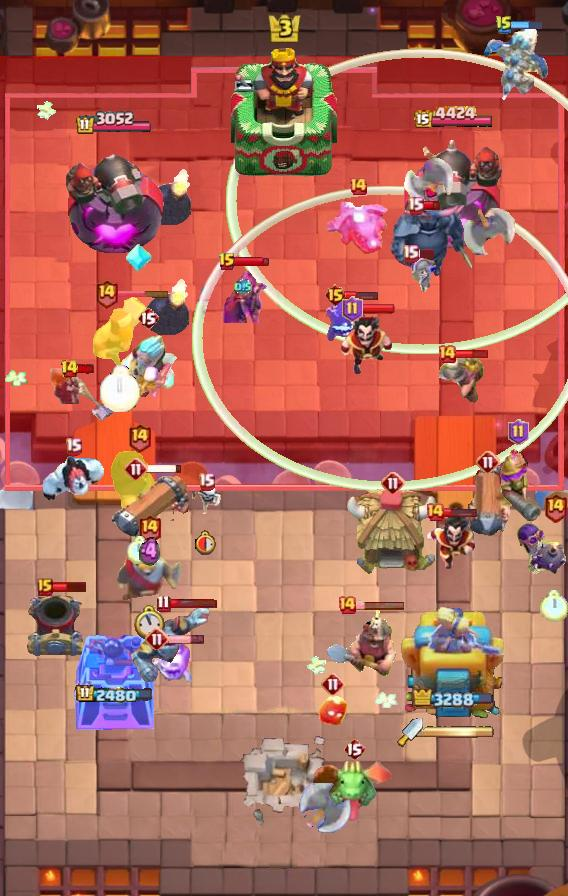archer-evolution: (217, 265, 269, 323)
axe: (291, 783, 351, 843), (462, 191, 516, 255), (400, 158, 454, 218)
bar: (354, 600, 406, 611), (168, 598, 218, 609), (116, 289, 170, 298), (51, 580, 88, 593), (360, 303, 396, 315), (234, 256, 270, 268), (443, 506, 478, 518), (455, 348, 490, 360), (168, 634, 205, 645), (146, 463, 183, 474), (344, 290, 379, 301), (511, 20, 543, 31), (77, 363, 96, 375), (416, 248, 436, 259), (422, 200, 441, 211)
bar-level: (137, 513, 162, 544), (543, 492, 568, 523), (127, 422, 152, 453), (94, 278, 119, 309), (321, 672, 345, 696), (145, 627, 169, 651), (381, 471, 405, 495), (124, 457, 148, 481), (476, 450, 500, 474), (324, 283, 347, 307), (508, 419, 529, 445), (342, 296, 363, 322), (343, 737, 365, 761), (137, 306, 159, 330), (337, 595, 357, 615), (425, 502, 445, 522), (437, 344, 457, 364), (348, 176, 368, 196), (60, 359, 79, 379), (218, 252, 236, 272), (495, 15, 513, 35), (198, 472, 215, 491), (65, 437, 82, 456), (402, 244, 419, 263), (407, 196, 424, 215), (37, 578, 53, 596), (156, 594, 171, 613)
bomb: (144, 276, 190, 335), (146, 166, 192, 225)
bomber-evolution: (514, 521, 568, 577)
cannoneer-tower: (400, 132, 507, 256), (64, 138, 164, 256)
clock: (100, 365, 141, 412), (134, 605, 165, 641), (540, 590, 568, 622), (127, 536, 152, 564), (195, 530, 218, 555)
dagger-duchess-tower: (399, 607, 507, 731)
dagger-duchess-tower-bar: (423, 725, 495, 739)
electro-dragon: (324, 199, 392, 255)
electro-spirit: (326, 298, 368, 344)
electro-wizard: (420, 510, 478, 574), (339, 314, 395, 378)
elixir: (139, 536, 160, 568), (234, 279, 252, 295)
fire-spirit: (317, 694, 349, 728)
ice-spirit-evolution: (152, 635, 194, 685)
ice-spirit-evolution-symbol: (125, 242, 153, 274)
ice-wizard: (119, 334, 177, 400)
king-tower: (231, 43, 337, 181)
knight: (116, 549, 183, 602)
lumberjack: (91, 294, 149, 370)
mega-minion: (130, 604, 214, 682)
miner: (326, 606, 397, 678), (432, 352, 486, 404)
mortar: (25, 592, 87, 660)
musketeer: (490, 447, 546, 525)
queen-tower: (73, 623, 155, 731)
skeleton: (133, 361, 173, 401), (189, 481, 223, 517)
skeleton-evolution: (411, 257, 437, 295)
tower-bar: (413, 105, 494, 131), (75, 111, 153, 136), (413, 689, 493, 710), (75, 684, 154, 705)
valkyrie: (48, 366, 118, 422)
